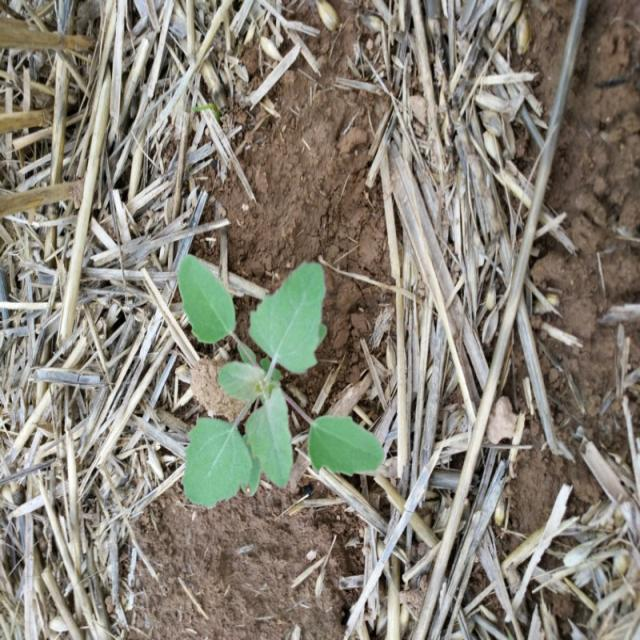goosefoots: (161, 255, 411, 531)
